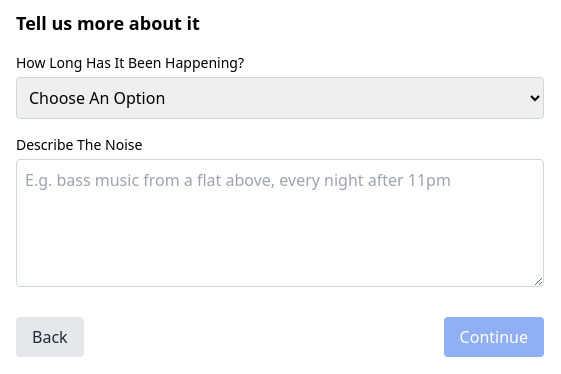
Test case: Noise details page › disables Continue until both fields are filled in
expect the button "Continue" is disabled: met, box [444,317,544,357]
Select "A few hours" in the dropdown with test id "how-long" at (280, 98), box [16,77,544,119]
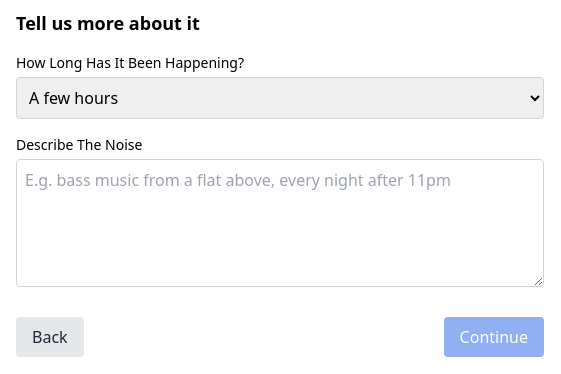
expect the button "Continue" is disabled: met, box [444,317,544,357]
Type "Drilling next door" into the text box with test id "description" at (280, 223), box [16,159,544,287]
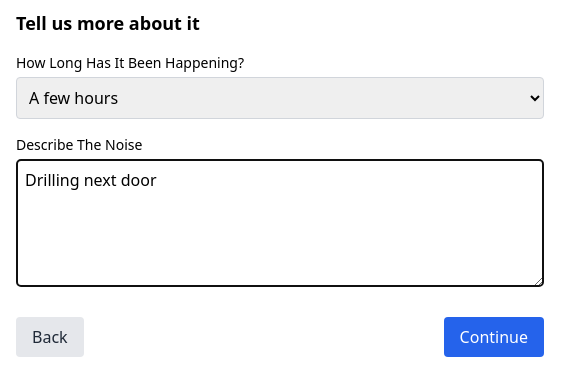
expect the button "Continue" is enabled: met, box [444,317,544,357]
